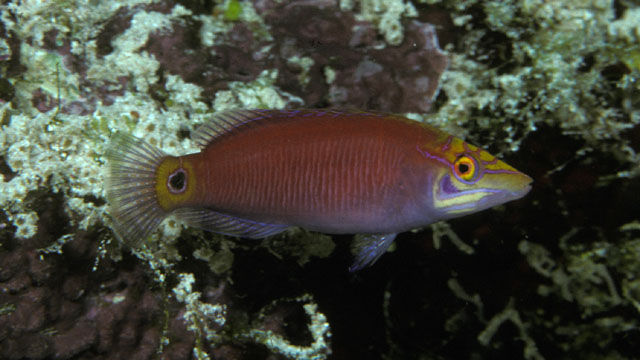fish: (105, 108, 533, 272)
